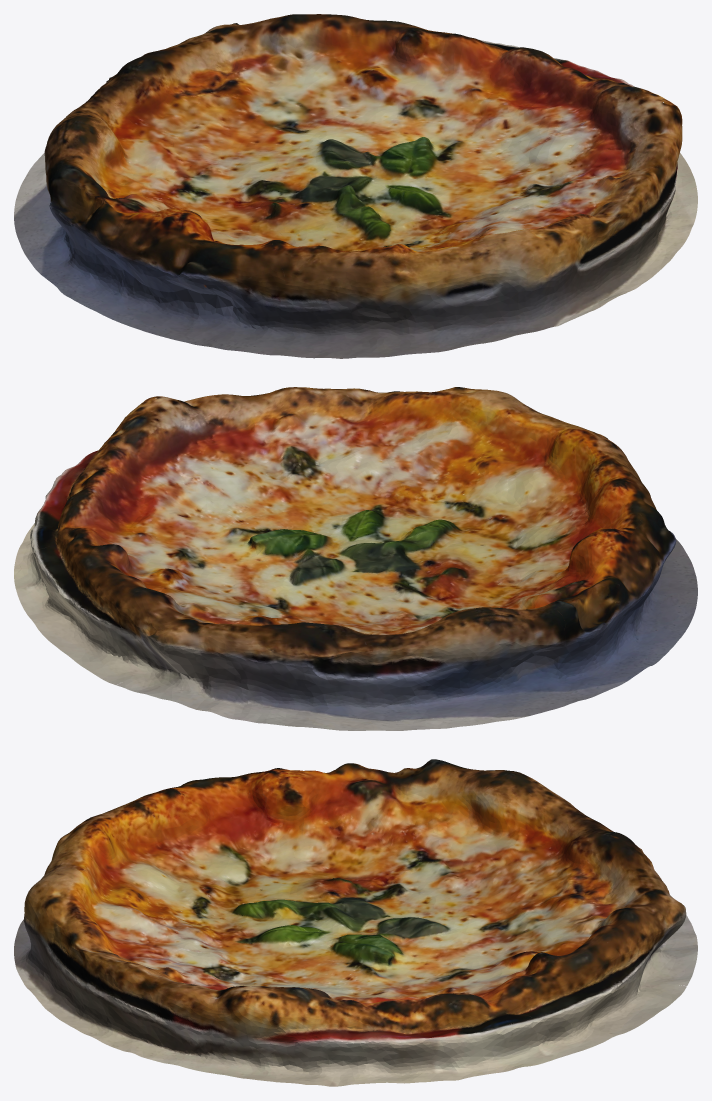
The model's file is margarita.glb.
3 views of the same model, one above another, from view 1: azimuth 30°, elevation 25°; view 2: azimuth 150°, elevation 25°; view 3: azimuth 270°, elevation 25° (orthographic).
Bounding box in the file's own units: 0.9656 × 0.1472 × 0.9656.
1 material, 1 textured.
